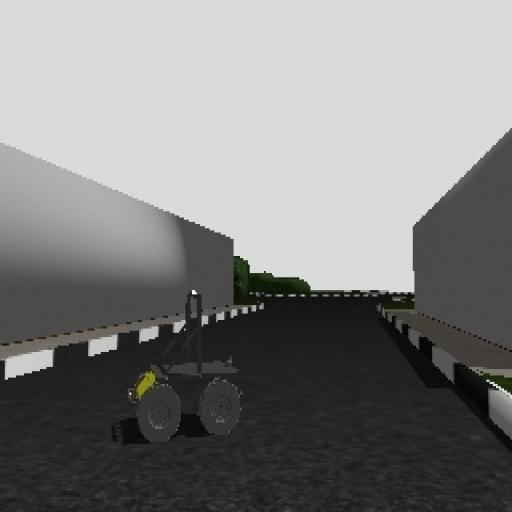huskya200: (106, 272, 258, 447)
